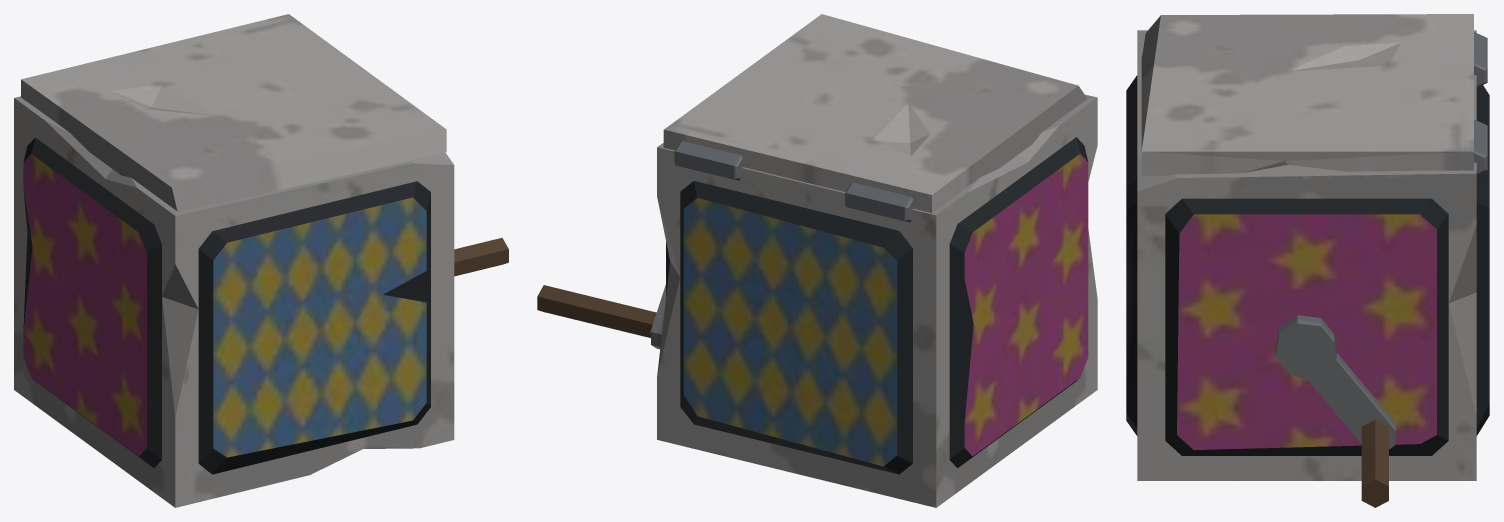
The model's file is jack-in-box.glb.
3 views of the same model, side by side, from view 1: azimuth 30°, elevation 25°; view 2: azimuth 150°, elevation 25°; view 3: azimuth 270°, elevation 25° (orthographic). The views are drawn at different scales.
Parts seen in each view (by area): view 1: SM_Prop_Jack_In_A_Box_01; view 2: SM_Prop_Jack_In_A_Box_01; view 3: SM_Prop_Jack_In_A_Box_01.
Part boxes in pixels (bbox=[...]): SM_Prop_Jack_In_A_Box_01: bbox=[14, 14, 508, 507]; SM_Prop_Jack_In_A_Box_01: bbox=[537, 14, 1097, 507]; SM_Prop_Jack_In_A_Box_01: bbox=[1126, 14, 1489, 507].
Bounding box in the file's own units: 54.1 × 35.67 × 35.94.
Materials: 1 (1 with a texture image).
